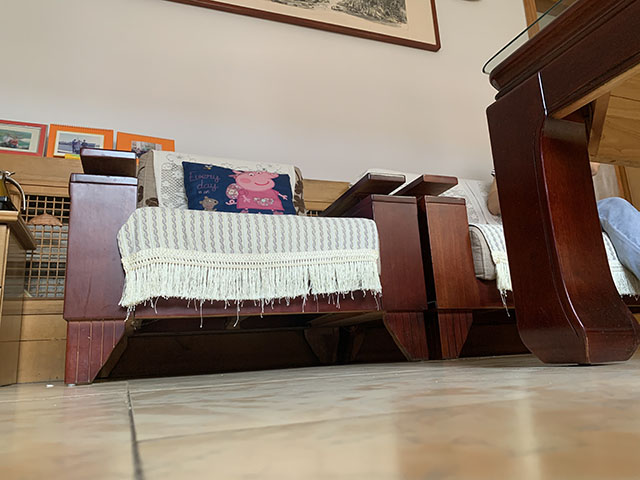sofa: (61, 163, 429, 387)
